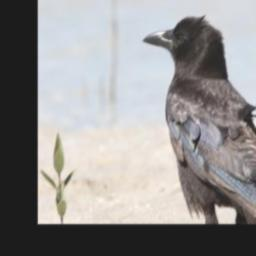Crow: (141, 13, 256, 224)
